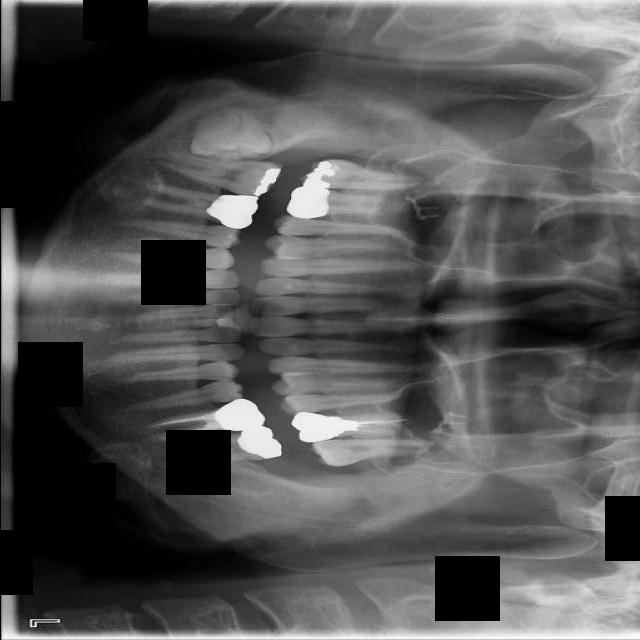52: (225, 147, 287, 213), (201, 184, 260, 233), (211, 392, 266, 441), (297, 155, 364, 193), (228, 422, 283, 468), (283, 180, 336, 226), (288, 411, 350, 445)
73: (146, 408, 223, 445), (337, 413, 409, 436), (73, 592, 86, 606)
BioHorizons Implant: (311, 438, 427, 468)
Blue Sky Bio Implant: (165, 424, 282, 474)
Caries: (297, 157, 420, 193)
Implant: (156, 149, 283, 203)
Keystone Dental Implant: (189, 103, 275, 166)
